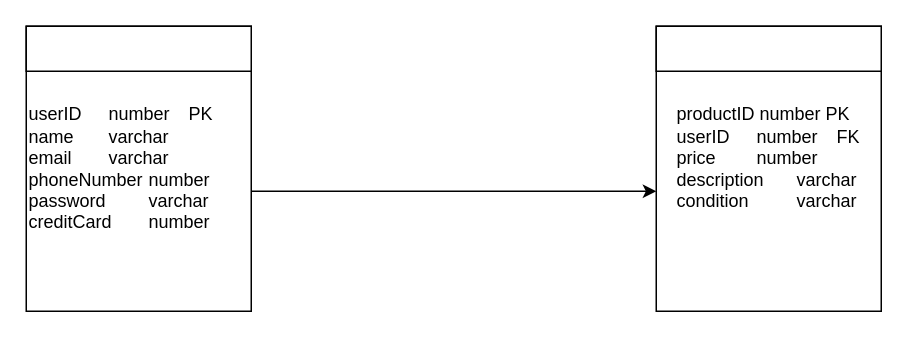
Some shapes in this 908 by 338 pixel diagram are drawn without their labels. The shapes that lost their labels are listed below. From the top down, each one's box as (x1, y1, x2, y2) in pixels, then its label:
(25, 25, 251, 71): User Info
(655, 25, 881, 71): Product Info
